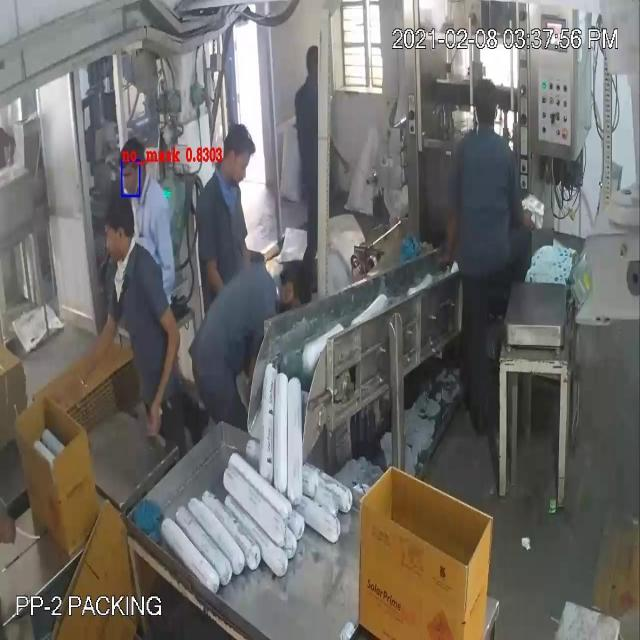No_Gloves: (36, 70, 164, 366)
